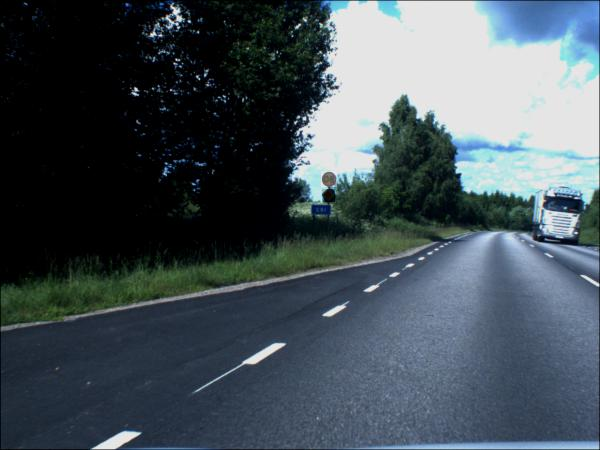80_SIGN: (321, 172, 338, 189)
PRIORITY_ROAD: (322, 191, 336, 205)
